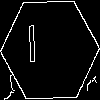I: (25, 25, 39, 72)
